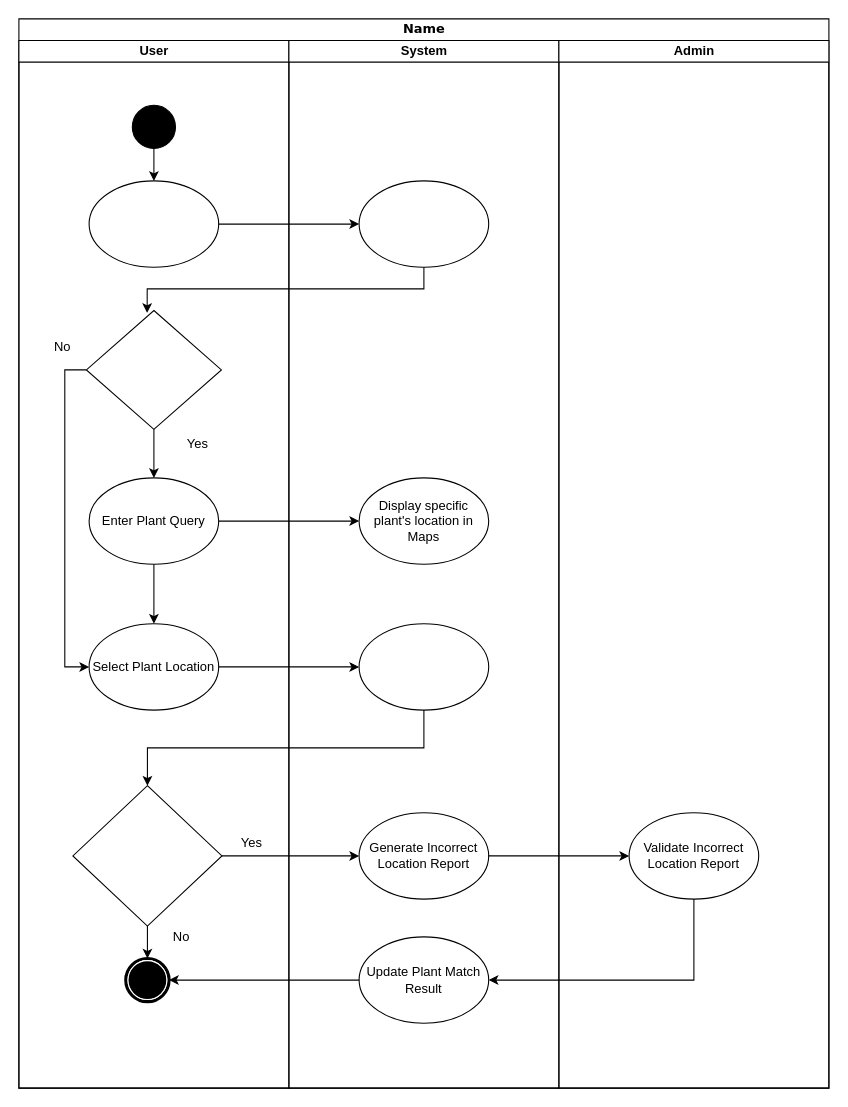
Image size: 848x1107. Some labels were removed from this diagram. The shapes that lost their labels are listed below. From the top down, each one's centre as x and y in pixels, then its label:
the point at 153,223: Select Maps
the point at 423,223: Display all plant location in Maps
the point at 153,369: Does user want to filter by plant?
the point at 423,666: Display Plant Details and Plant Match Result
the point at 147,855: Does user concur with plant location?
